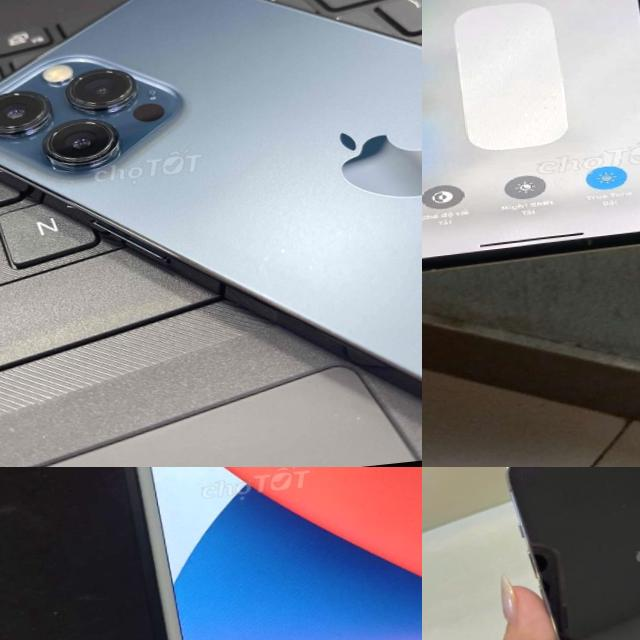scratch: (78, 467, 422, 640)
